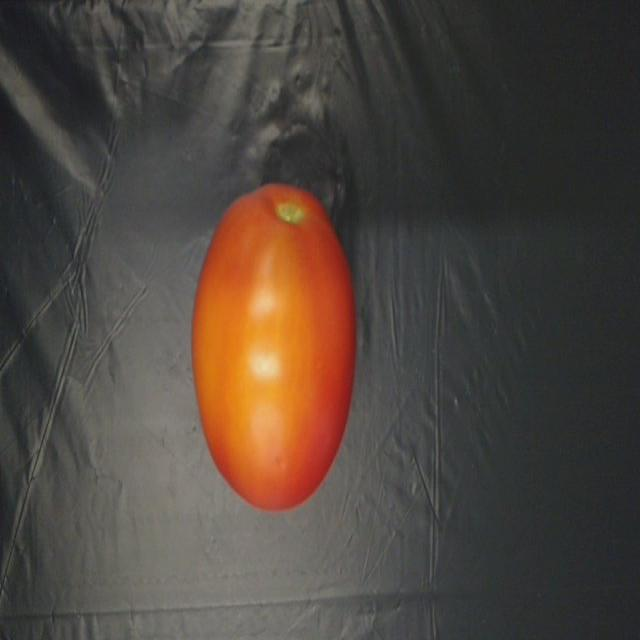sari: (186, 175, 366, 516)
